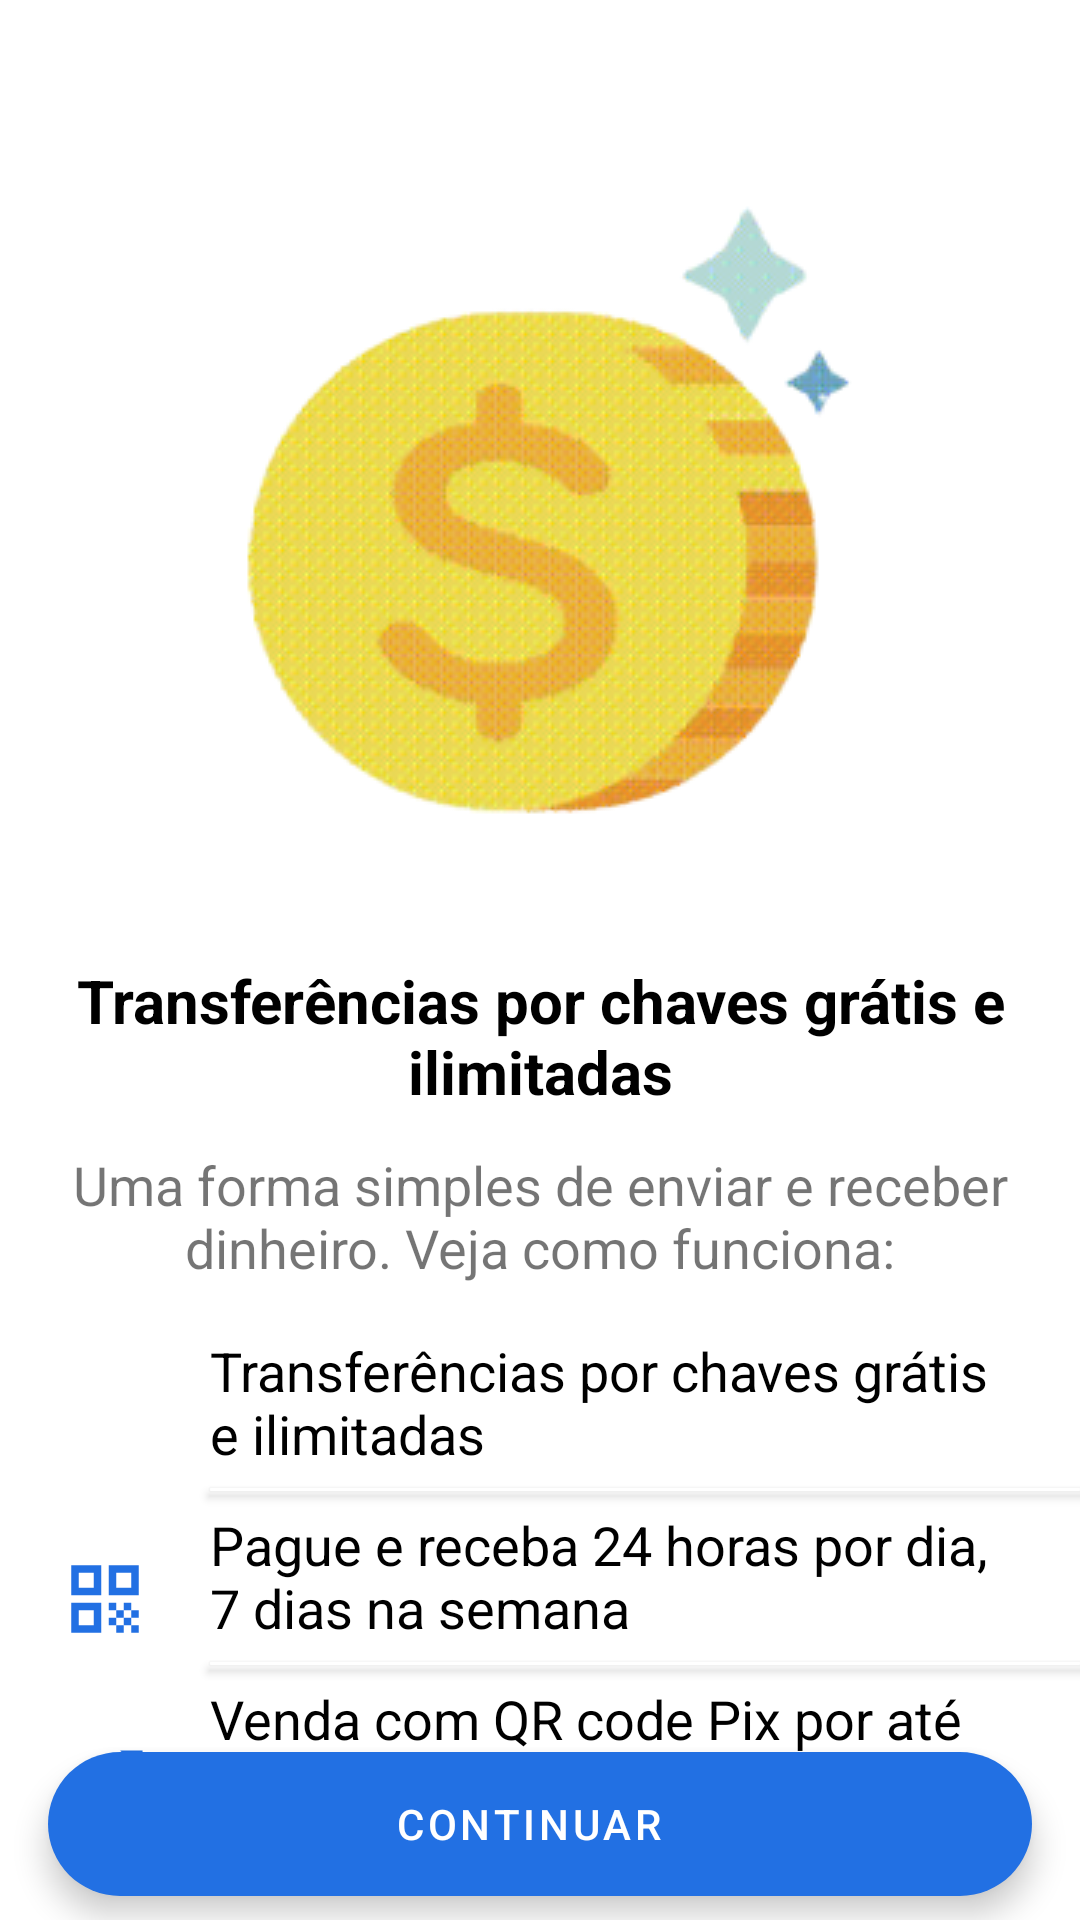

Screen size 1080×1920. Icon name, then its center in pixels as [x,y]:
pix qrcode: [105,1599]
